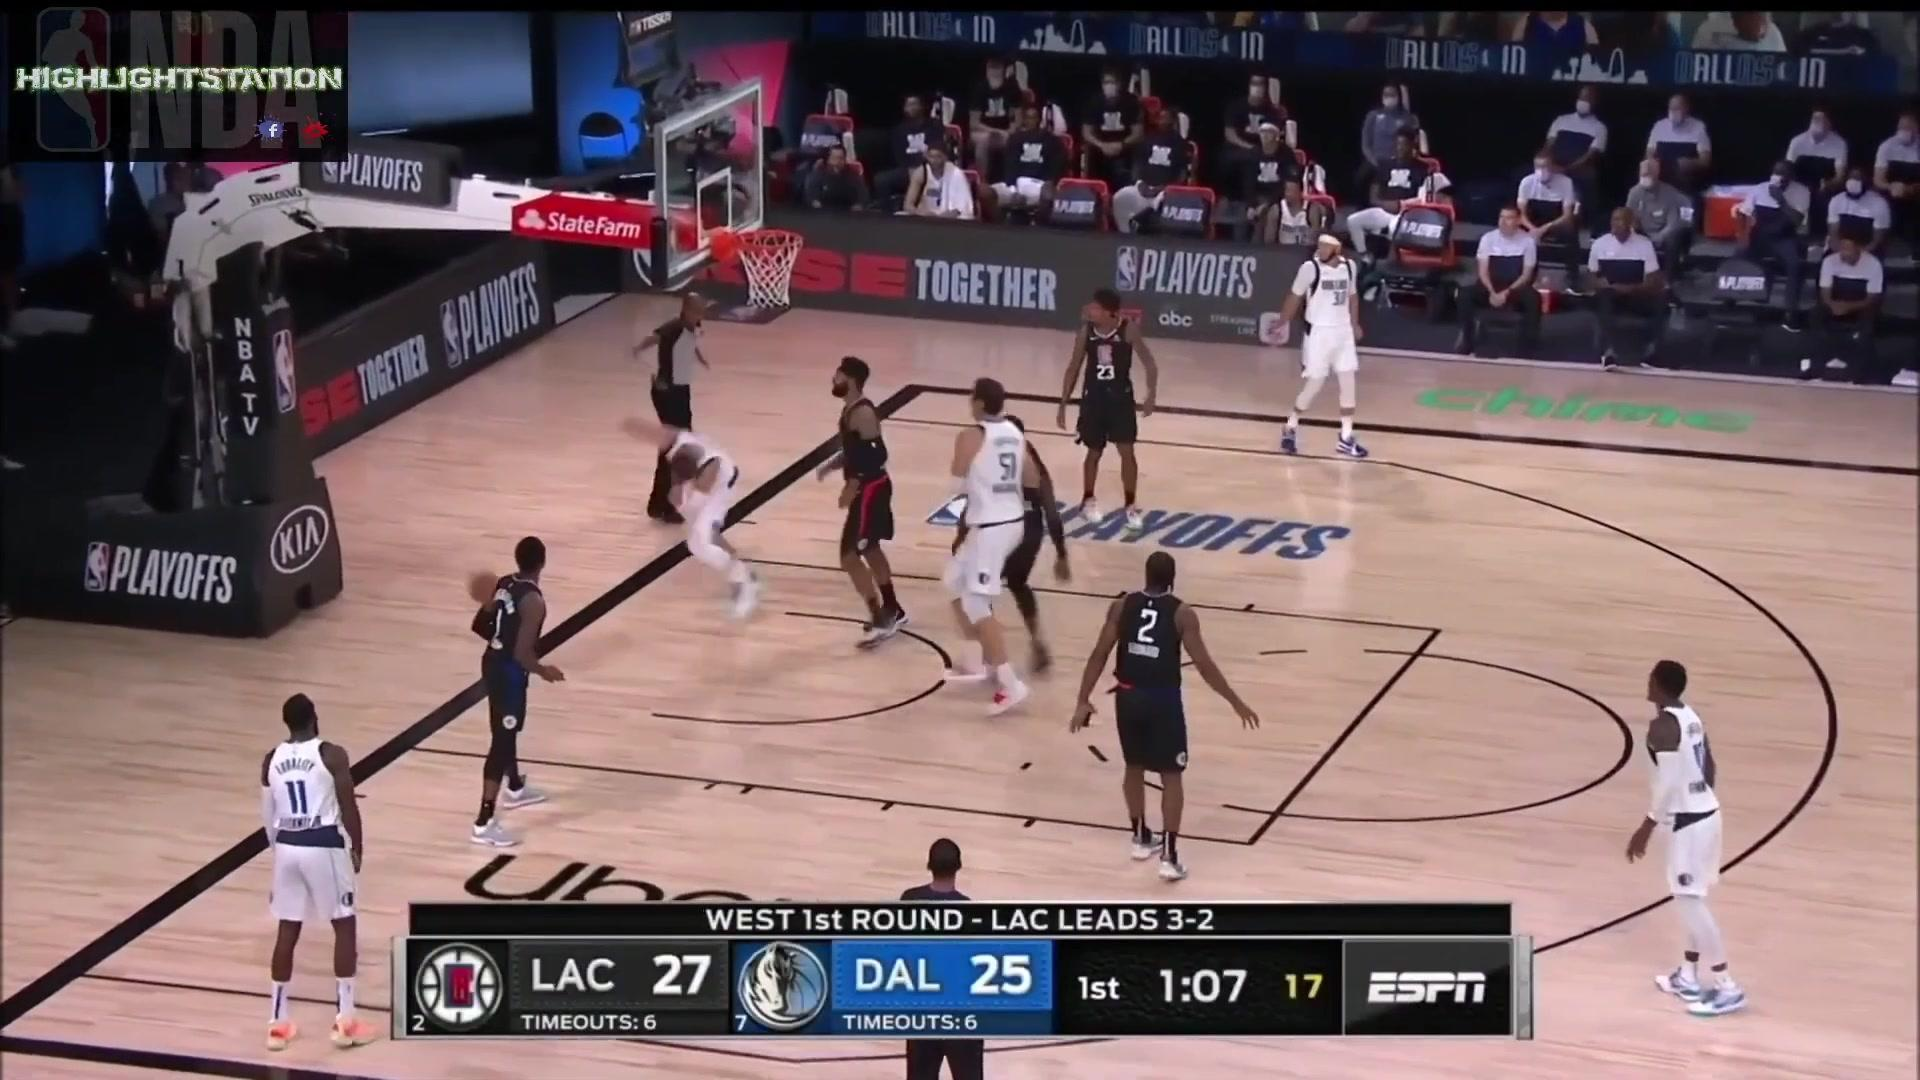no_foul: (922, 360, 1083, 715)
